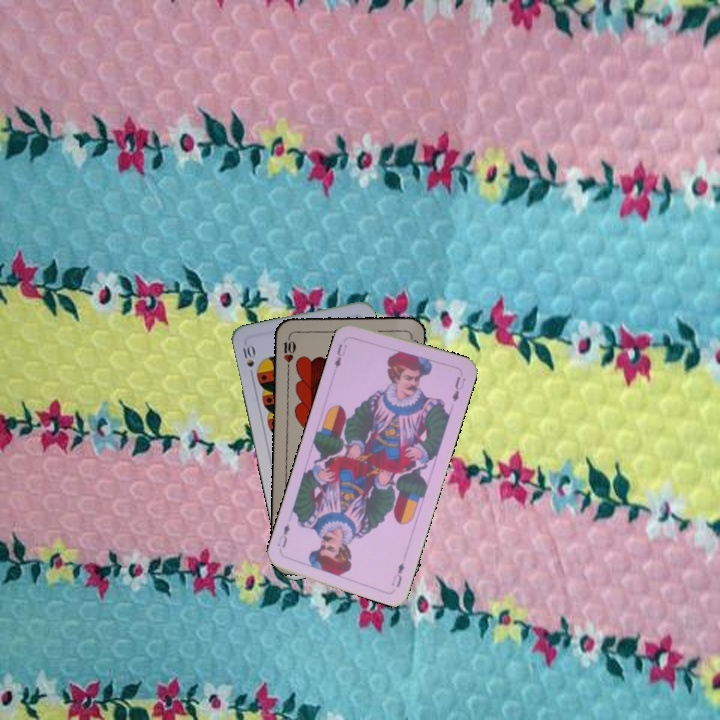EU: (387, 558, 407, 590), (330, 339, 350, 370)
H10: (280, 331, 298, 371)
S10: (238, 340, 257, 380)
